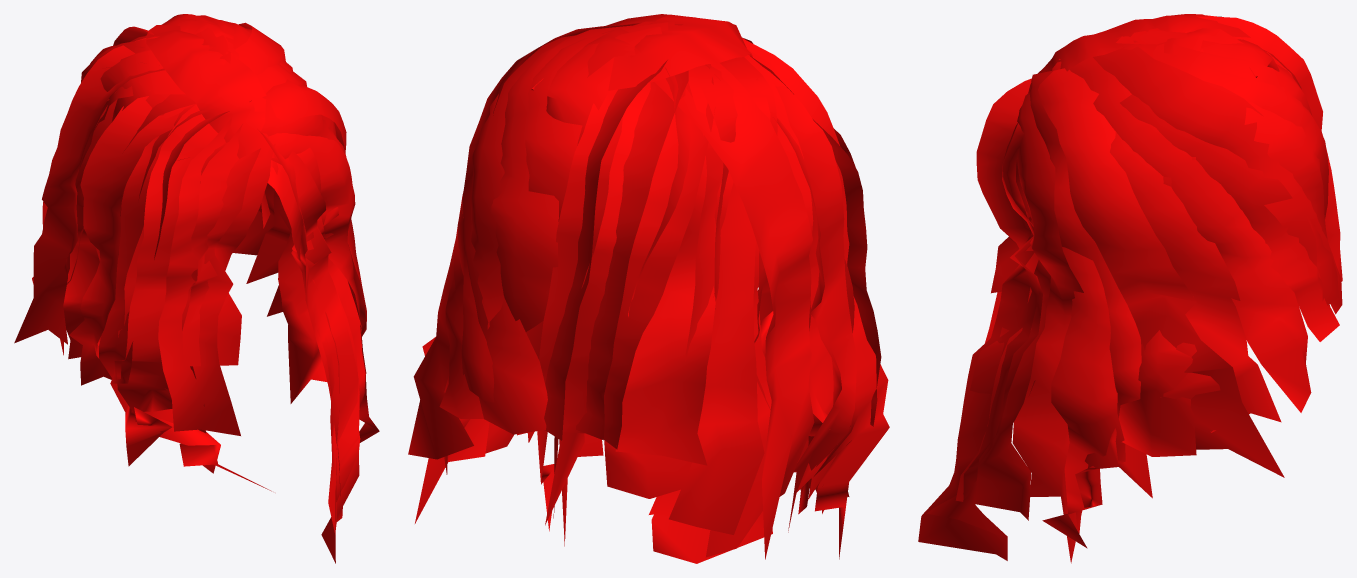
Rendered from elvs_inverted_curly_bob_M.glb.
The picture shows the model from 3 angles, left to right: view 1: azimuth 30°, elevation 25°; view 2: azimuth 150°, elevation 25°; view 3: azimuth 270°, elevation 25°; orthographic projection. The views are drawn at different scales.
Size of the model in its own units: 0.2596 by 0.4149 by 0.3158.
Materials: 1 (1 with a texture image).
